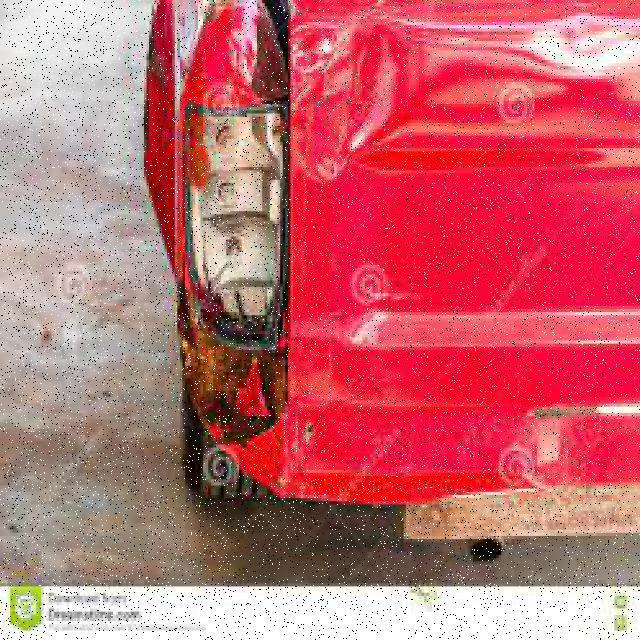Taillight-Damage: (139, 0, 337, 363)
